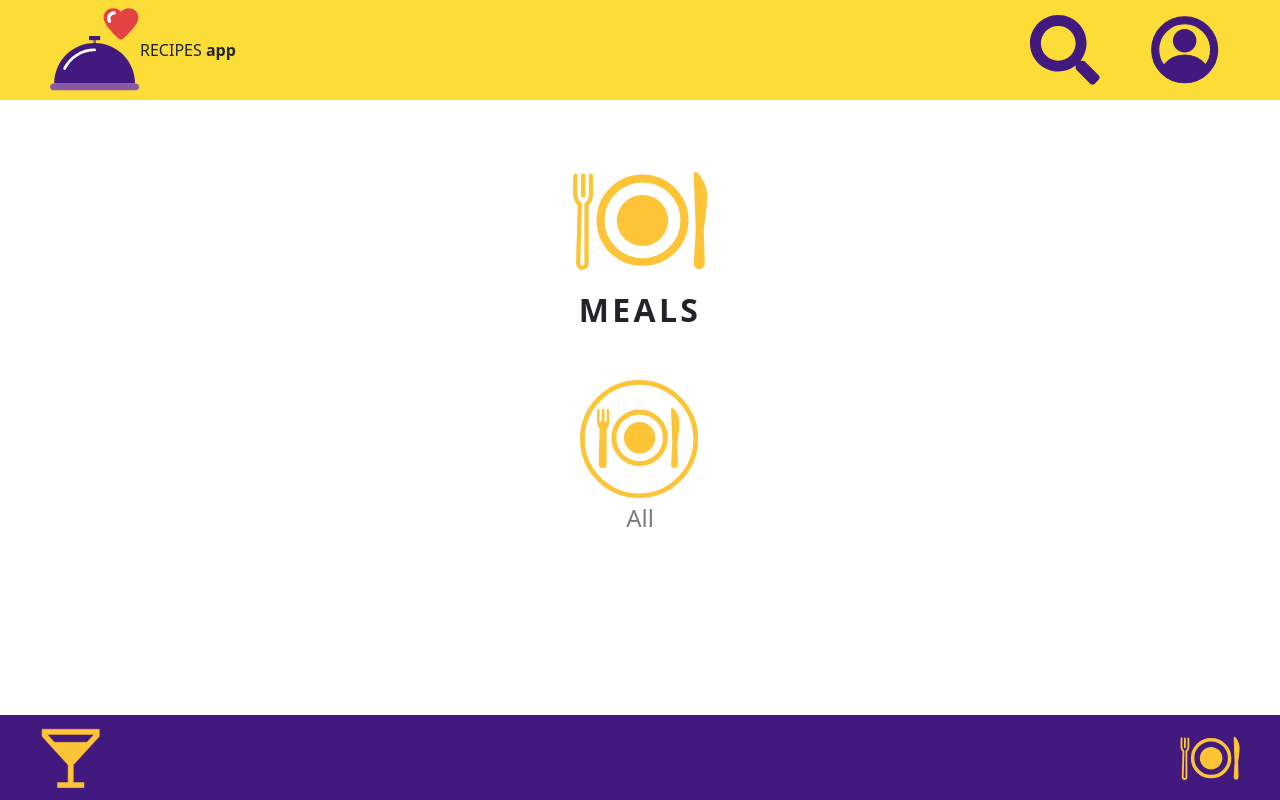
Test: testando o componente Header › testando o evento click nos inputs
Step 1. Click the button with test id "search-top-btn" → coordinates (1065, 50), box [1030, 15, 1100, 85]
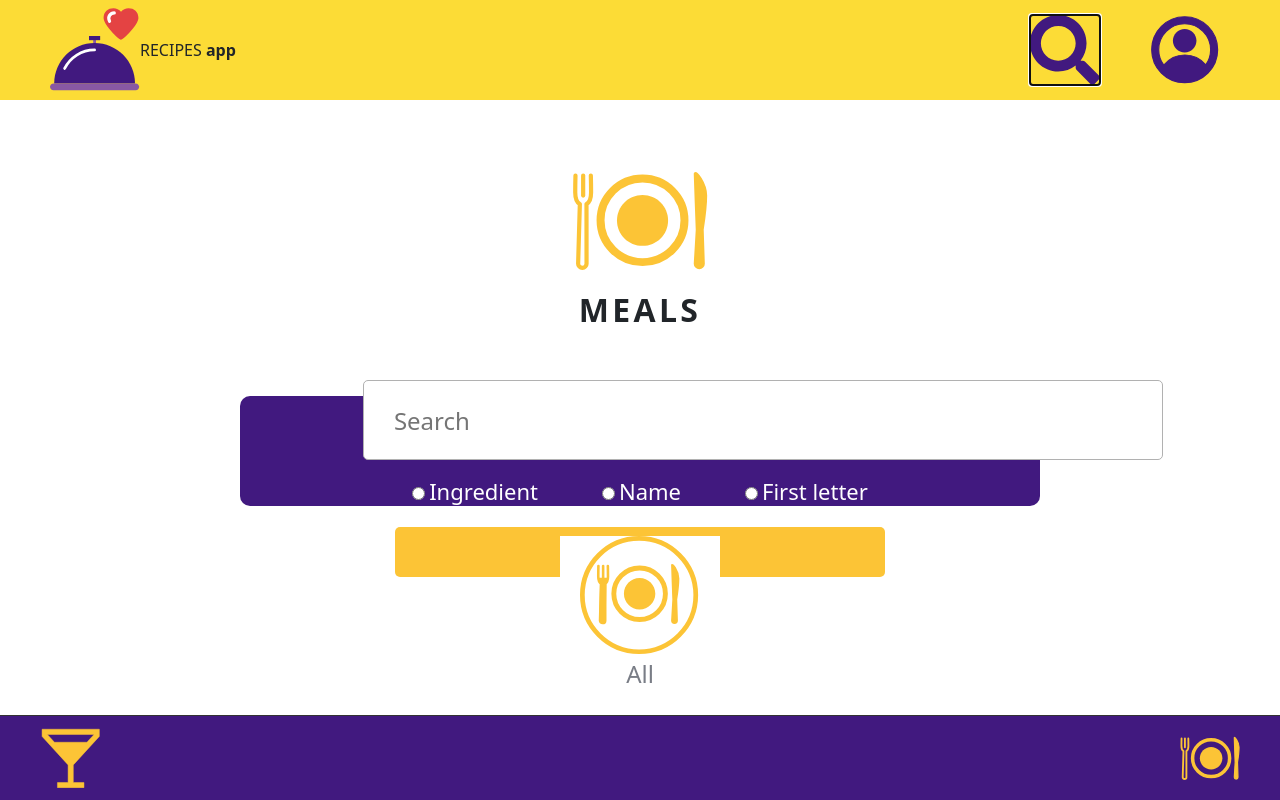
Now the search field with test id "search-input" is shown, box [363, 380, 1163, 460]
